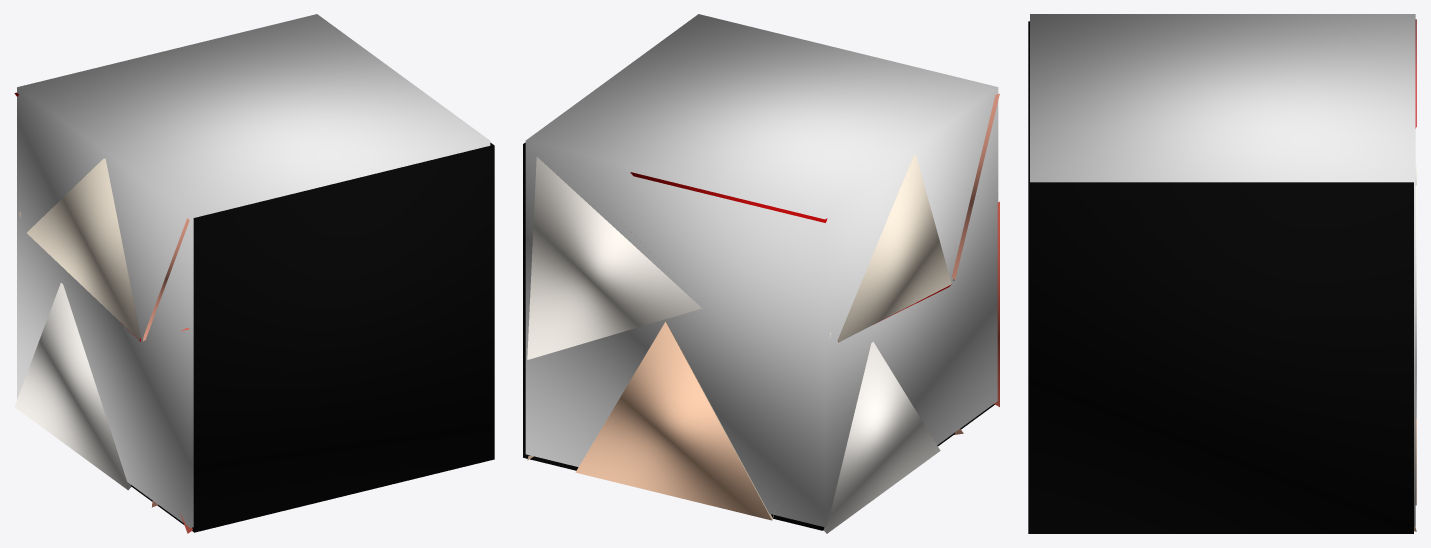
3 renders of one model, left to right at view 1: azimuth 30°, elevation 25°; view 2: azimuth 150°, elevation 25°; view 3: azimuth 270°, elevation 25°, orthographic. The views are drawn at different scales.
Parts seen in each view (by area): view 1: Renderer Node; view 2: Renderer Node; view 3: Renderer Node.
Boxes of the visible parts, x1,y1,x2,y2 form: Renderer Node: [14, 14, 494, 533]; Renderer Node: [523, 14, 999, 533]; Renderer Node: [1028, 14, 1416, 533].
Size of the model in its own units: 1.7 by 1.7 by 1.68.
